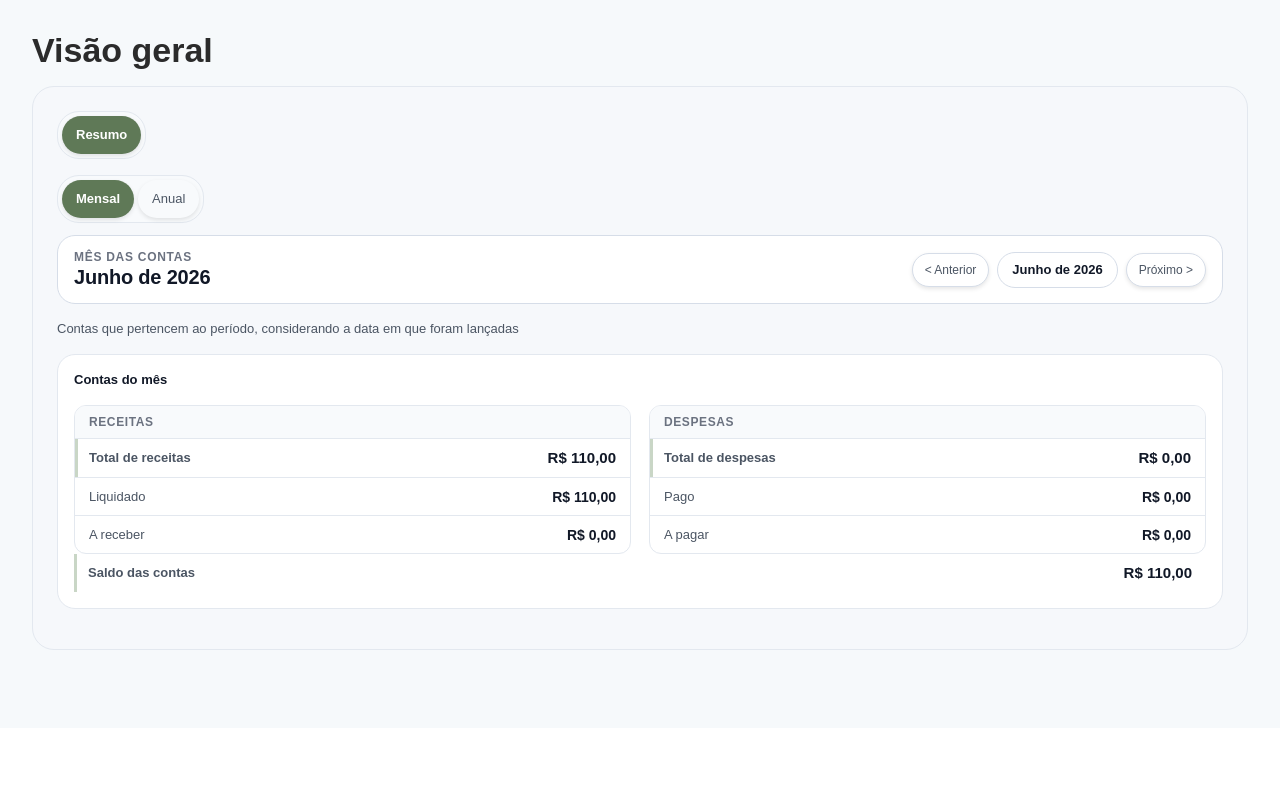
Scenario: Financeiro - detalhe de receitas por paciente › ignora resposta atrasada de um modo anterior sem apresentar zero durante carregamento
Expected: the heading "Contas do mês" is shown, [74, 371, 167, 389]
What coordinates should you click on to do the following:
click the button "Anual"
I would click on:
 (169, 199)
Its box is [138, 180, 199, 218].
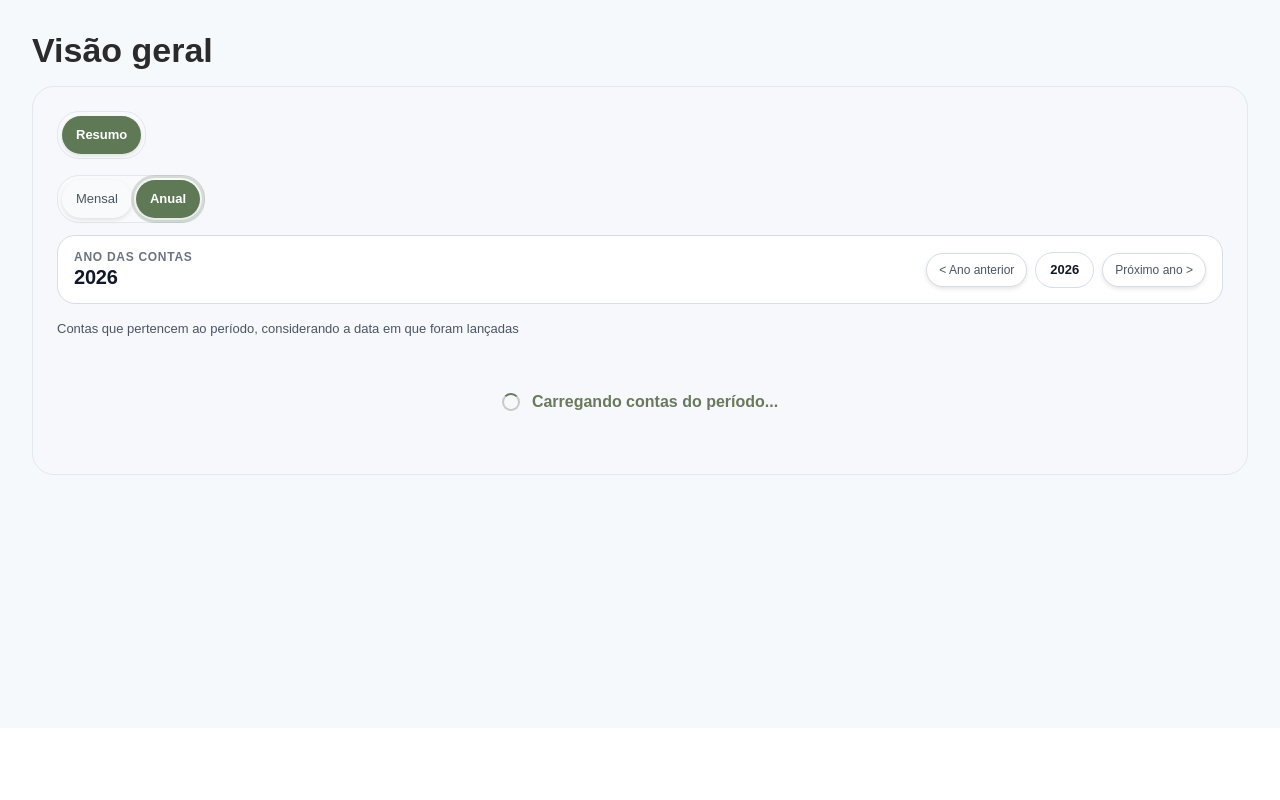
Now the text "Carregando contas do período..." is shown, box [502, 393, 778, 411]
What coordinates should you click on to do the following:
click the button "Mensal"
I would click on:
 (97, 199)
Its box is [62, 180, 132, 218].
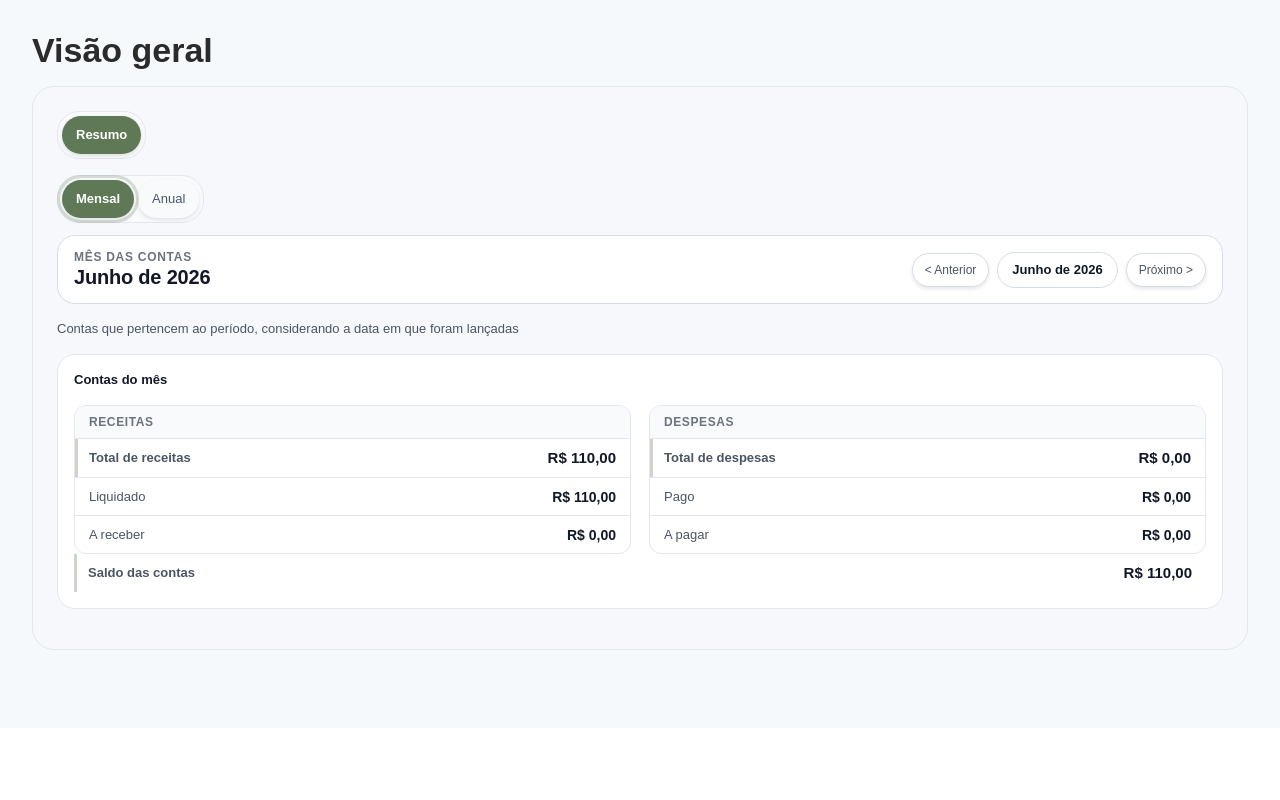
Now the heading "Contas do mês" is shown, box [74, 371, 167, 389]
